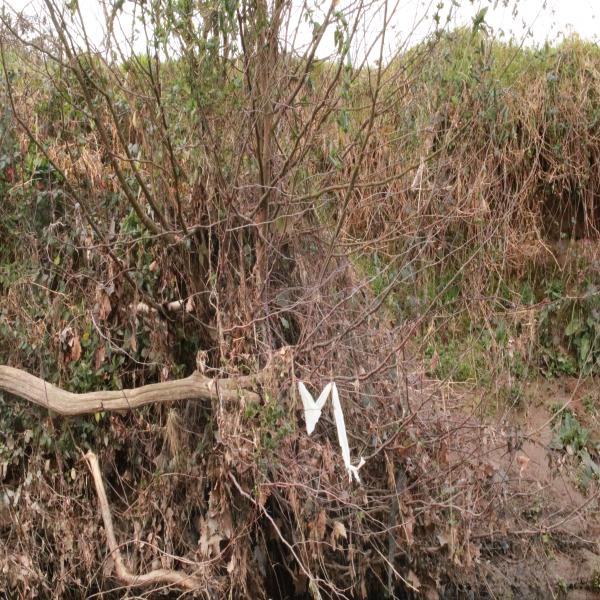fragments: (296, 381, 364, 484)
